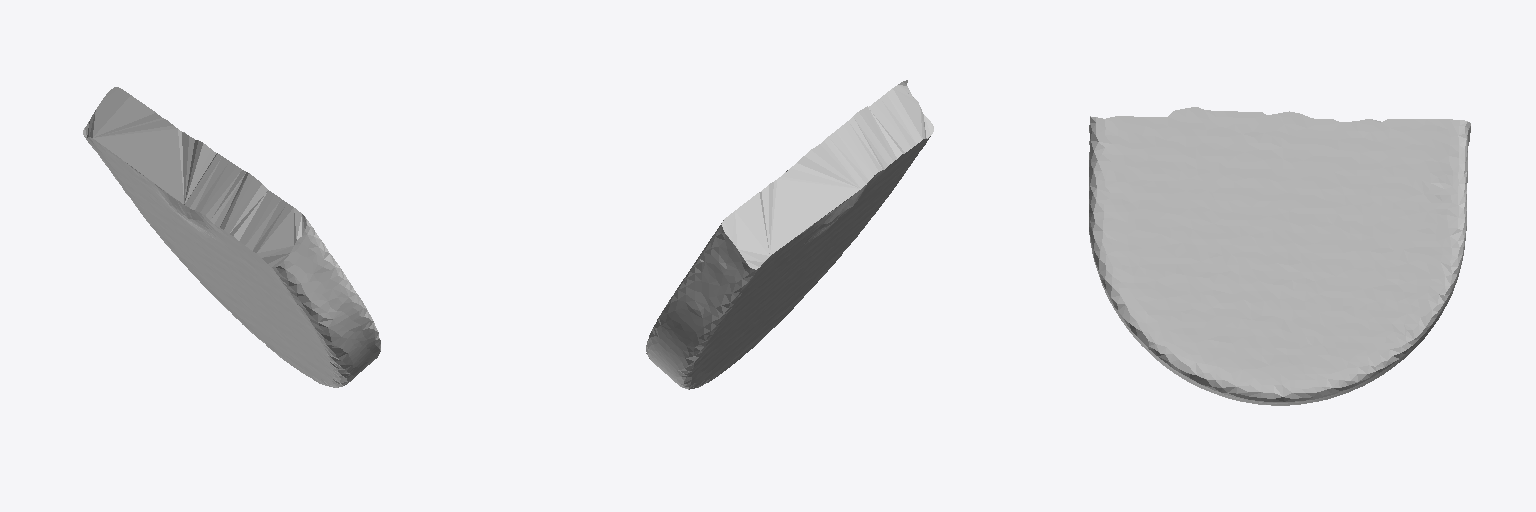
Rendered from top.obj.
The picture shows the model from 3 angles: view 1: azimuth 30°, elevation 25°; view 2: azimuth 150°, elevation 25°; view 3: azimuth 270°, elevation 25°; orthographic projection.
Size of the model in its own units: 31.02 by 45.07 by 62.24.